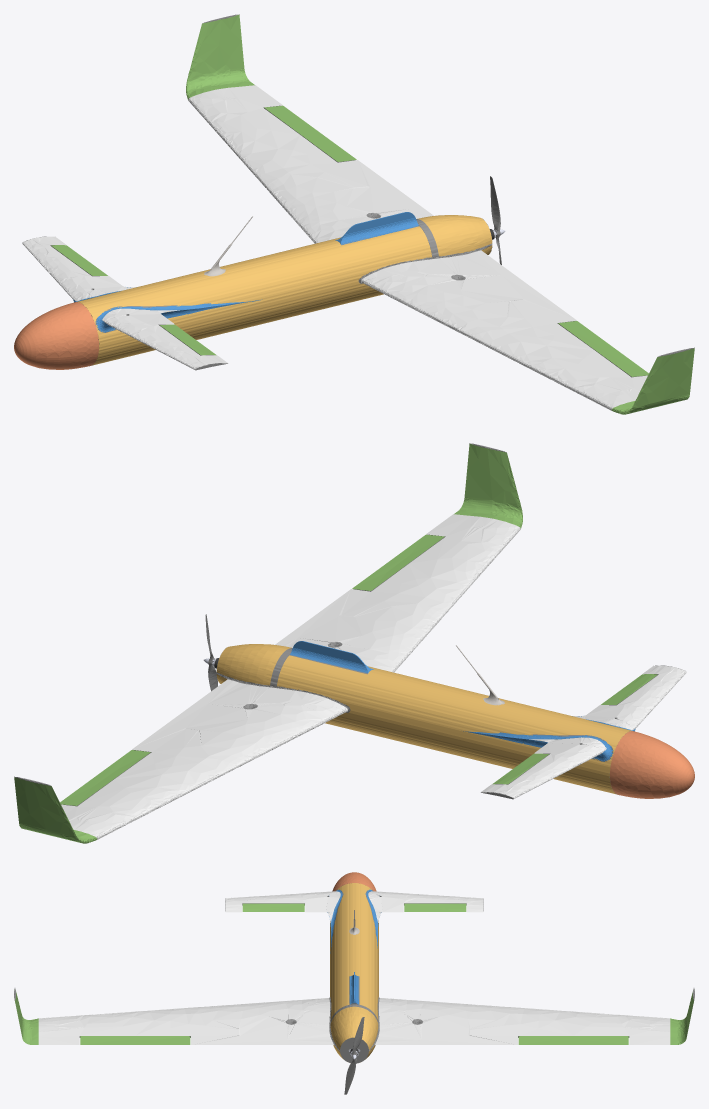
File: UAV_opt.glb
3 renders of one model, top to bottom at view 1: azimuth 30°, elevation 25°; view 2: azimuth 150°, elevation 25°; view 3: azimuth 270°, elevation 25°, orthographic. The views are drawn at different scales.
Parts seen in each view (by area): view 1: Node5, Node2, Node6, Node11, Node9, Node10; view 2: Node5, Node2, Node6, Node11, Node9, Node10; view 3: Node5, Node2, Node6, Node10, Node9, Node7, Node11.
Part boxes in pixels (x1=…): Node5: x1=22, y1=85, x2=647, y2=410; Node2: x1=77, y1=215, x2=492, y2=365; Node6: x1=51, y1=14, x2=694, y2=414; Node11: x1=14, y1=302, x2=98, y2=369; Node9: x1=73, y1=212, x2=418, y2=332; Node10: x1=25, y1=14, x2=694, y2=377; Node5: x1=61, y1=514, x2=686, y2=840; Node2: x1=216, y1=644, x2=631, y2=794; Node6: x1=14, y1=443, x2=657, y2=843; Node11: x1=610, y1=731, x2=694, y2=798; Node9: x1=290, y1=641, x2=635, y2=761; Node10: x1=14, y1=443, x2=681, y2=806; Node5: x1=38, y1=891, x2=670, y2=1044; Node2: x1=330, y1=883, x2=378, y2=1059; Node6: x1=15, y1=903, x2=693, y2=1044; Node10: x1=14, y1=886, x2=694, y2=1063; Node9: x1=327, y1=889, x2=381, y2=1004; Node7: x1=344, y1=1017, x2=364, y2=1094; Node11: x1=332, y1=872, x2=376, y2=891.
Size of the model in its own units: 1468 by 369 by 2372.
